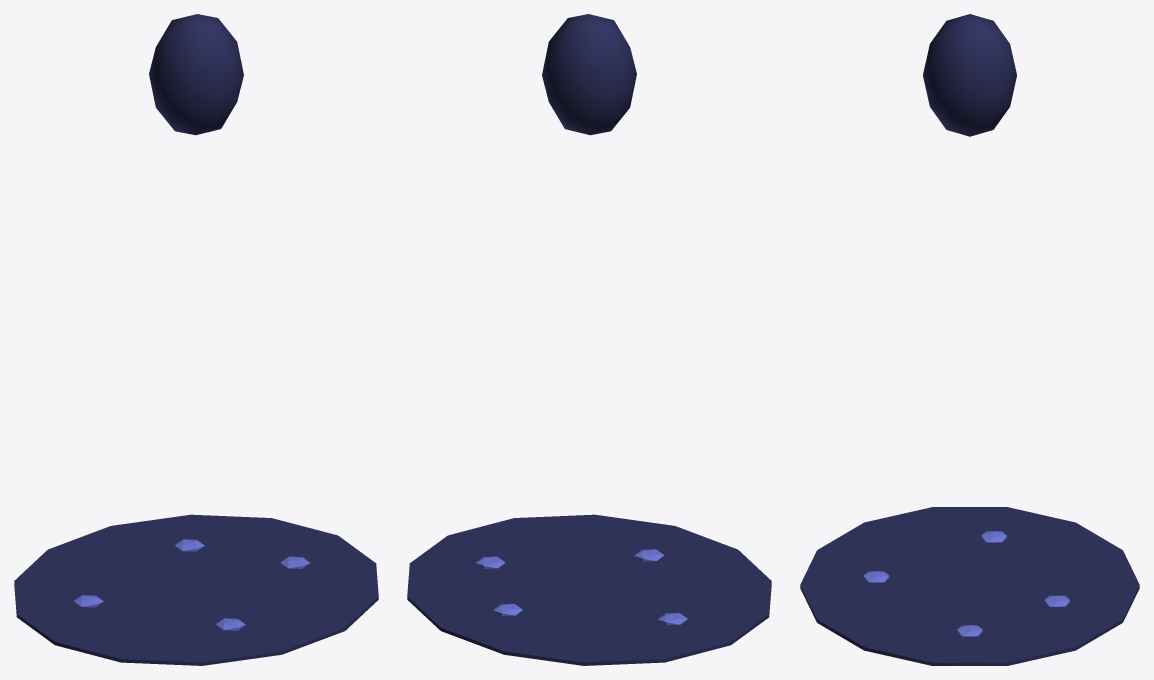
Rendered from fx_boss_ink_pool.glb.
3 renders of one model, left to right at view 1: azimuth 30°, elevation 25°; view 2: azimuth 150°, elevation 25°; view 3: azimuth 270°, elevation 25°, orthographic.
Visible parts, largest first — view 1: pool_inkPool, drop_inkDrop, pool_inkShine; view 2: pool_inkPool, drop_inkDrop, pool_inkShine; view 3: pool_inkPool, drop_inkDrop, pool_inkShine.
Part boxes in pixels (left/top/right/bottom): pool_inkPool: left=14, top=514, right=378, bottom=665; drop_inkDrop: left=149, top=14, right=243, bottom=135; pool_inkShine: left=74, top=539, right=309, bottom=630; pool_inkPool: left=407, top=514, right=771, bottom=665; drop_inkDrop: left=542, top=14, right=636, bottom=135; pool_inkShine: left=476, top=549, right=687, bottom=625; pool_inkPool: left=800, top=507, right=1139, bottom=665; drop_inkDrop: left=923, top=14, right=1016, bottom=136; pool_inkShine: left=863, top=531, right=1069, bottom=636.
Size of the model in its own units: 1.95 by 3.35 by 1.8.
